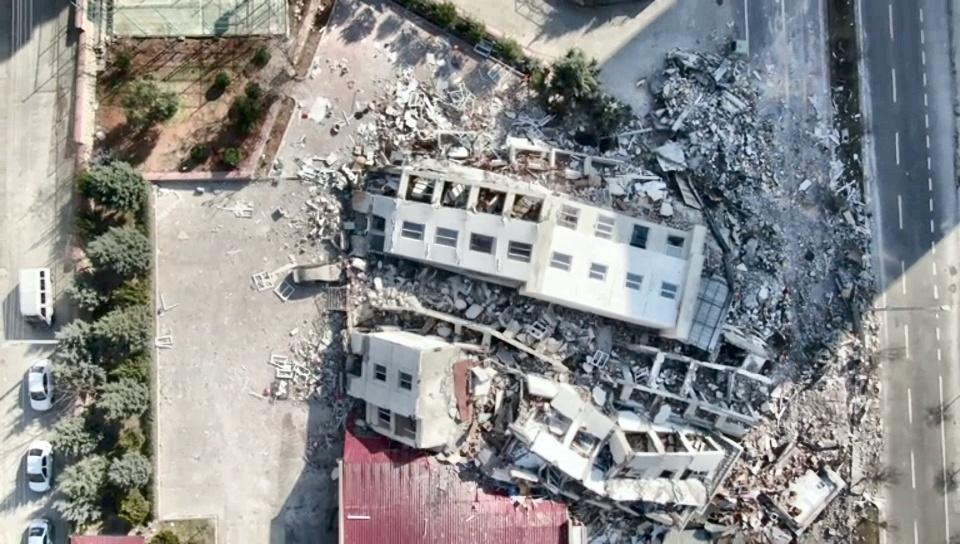kapali: (747, 15, 851, 543)
